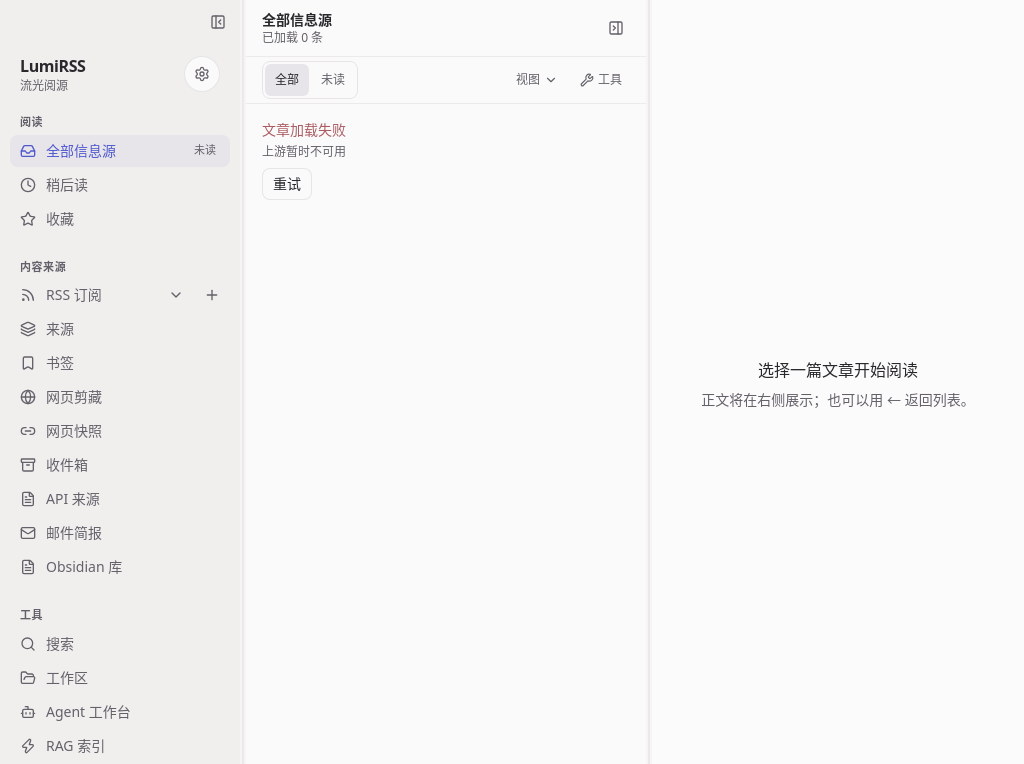
Scenario: Test H — Error state › entries 请求失败 → error state + 重试；App 不崩溃
Expected: the text "文章加载失败" is shown, left=262, top=120, right=346, bottom=139
Expected: the text "上游暂时不可用" is shown, left=262, top=143, right=346, bottom=160
Step 1. Click the button "重试" → click(287, 184), box left=262, top=168, right=312, bottom=200
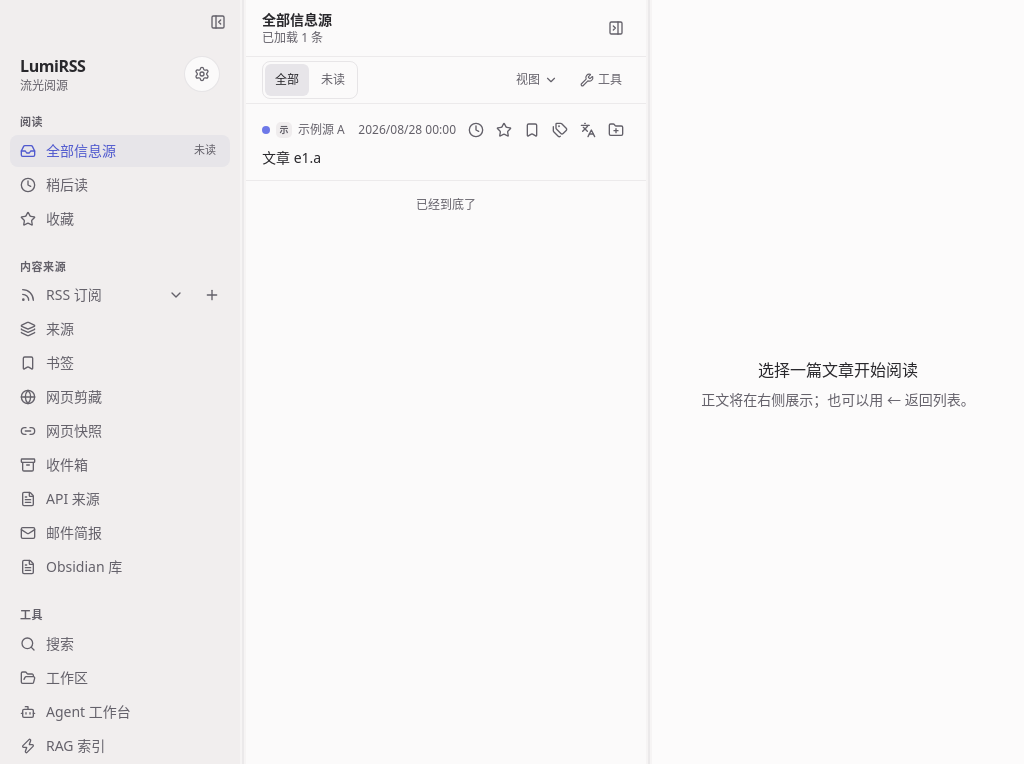
Expected: the button "文章 e1.a" is shown, left=262, top=148, right=630, bottom=168
